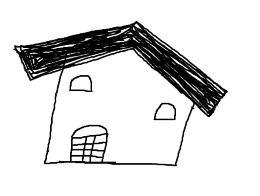door: (65, 119, 113, 170)
open_window: (66, 72, 95, 95), (152, 101, 179, 125)
shaded_roof: (13, 21, 228, 117)
wall: (44, 48, 195, 172)
